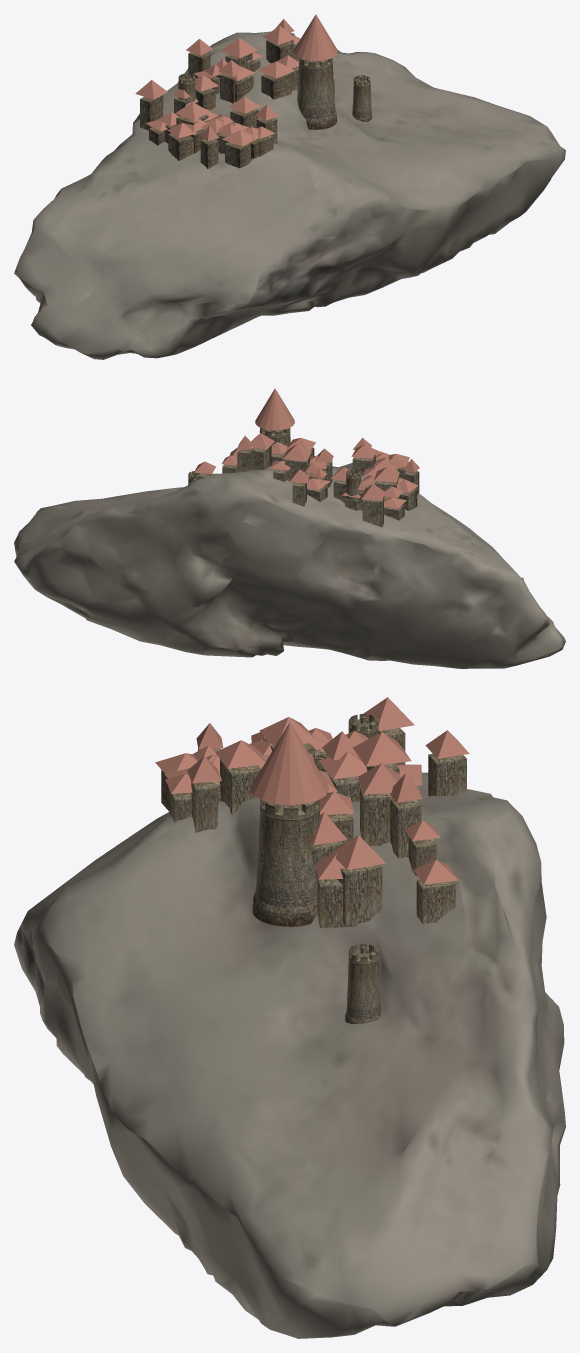
The model's file is bral.glb.
3 renders of one model, top to bottom at view 1: azimuth 30°, elevation 25°; view 2: azimuth 150°, elevation 25°; view 3: azimuth 270°, elevation 25°, orthographic. The views are drawn at different scales.
Parts seen in each view (by area): view 1: bral; view 2: bral; view 3: bral.
Boxes of the visible parts, box(x1,y1,x2,y2) form: bral: box(14, 14, 565, 359); bral: box(14, 388, 565, 668); bral: box(14, 697, 565, 1338).
Size of the model in its own units: 1.89 by 0.8377 by 0.9094.
Materials: 4 (3 with a texture image).
